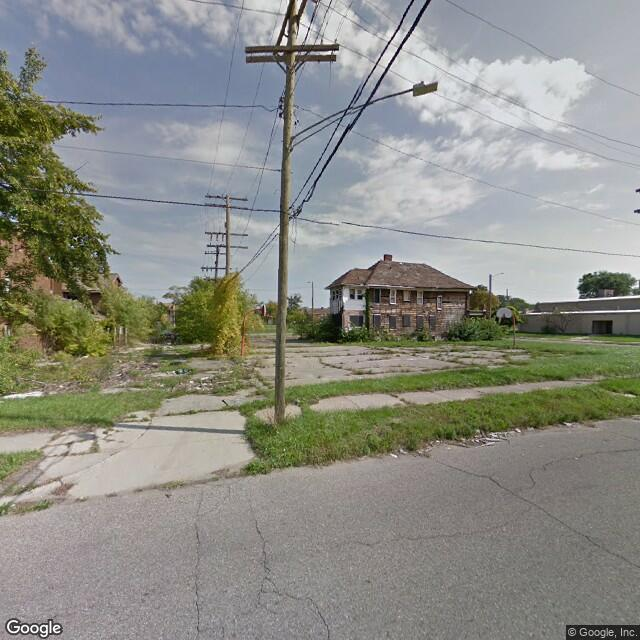litter: (189, 378, 211, 392), (471, 435, 501, 444), (430, 436, 444, 445), (387, 452, 400, 461), (561, 422, 579, 428), (510, 428, 523, 436), (55, 383, 66, 389), (115, 372, 123, 376)
